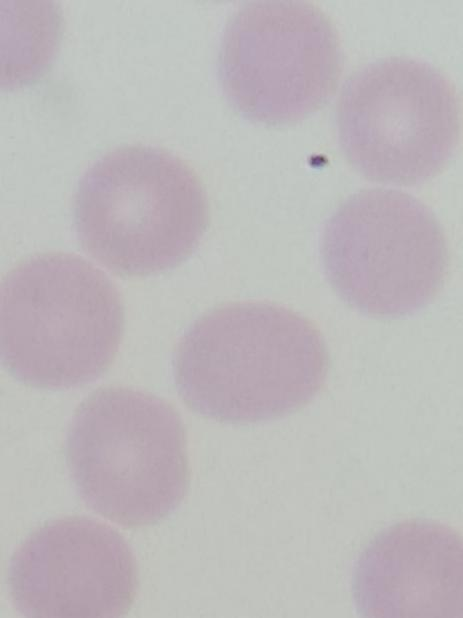Uninfected: (174, 302, 326, 424), (73, 145, 206, 273), (1, 253, 125, 389), (65, 389, 188, 525), (218, 0, 342, 131), (320, 191, 446, 317), (336, 59, 458, 183), (8, 518, 138, 618), (354, 522, 459, 617)
